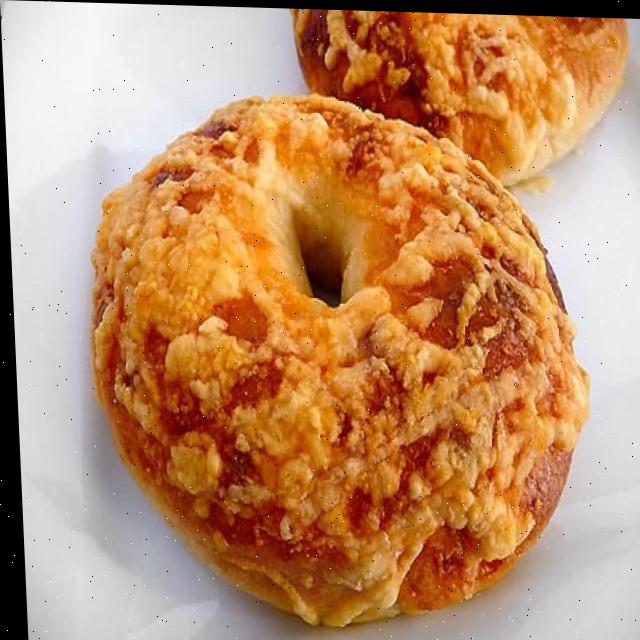Bagel: (89, 96, 585, 623)
